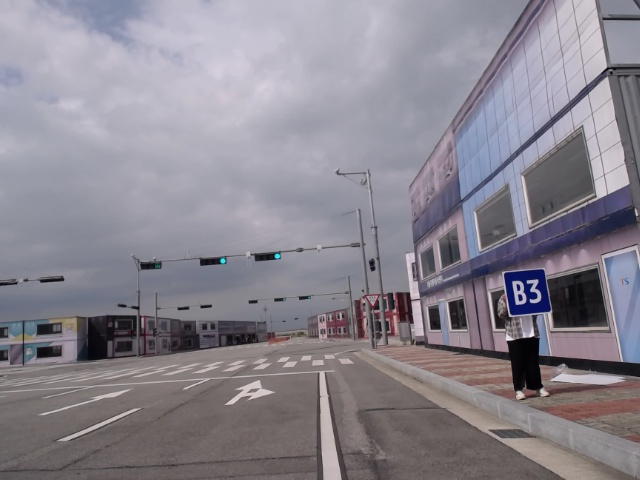delivery_b3: (503, 268, 553, 317)
straight_green_4: (197, 254, 226, 267), (254, 252, 282, 264), (297, 294, 312, 301), (272, 296, 289, 302)
